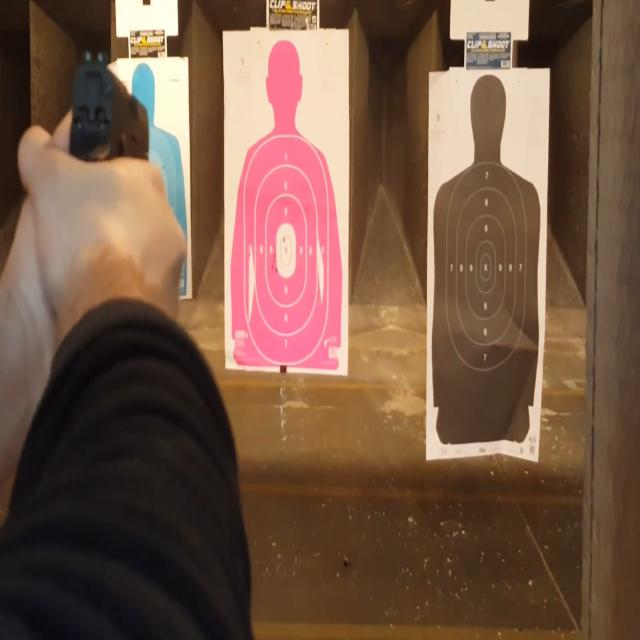handgun: (56, 48, 168, 228)
